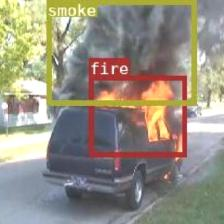fire: (89, 75, 186, 156)
smoke: (45, 0, 195, 104)
